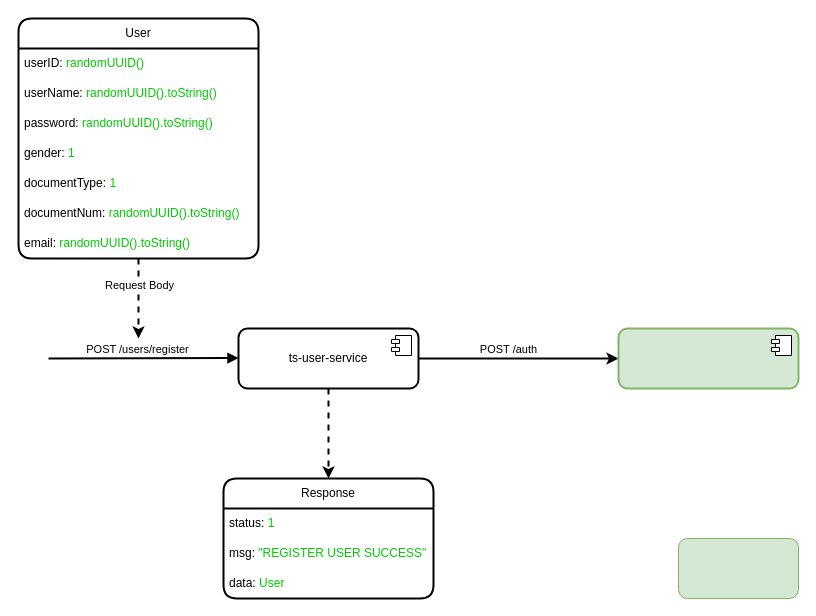
This 816x616 diagram has some shape labels left out. The centre of each missing label's shape, as x and y in pixels:
Service & Database: point (738, 568)
ts-auth -service: point (708, 358)
